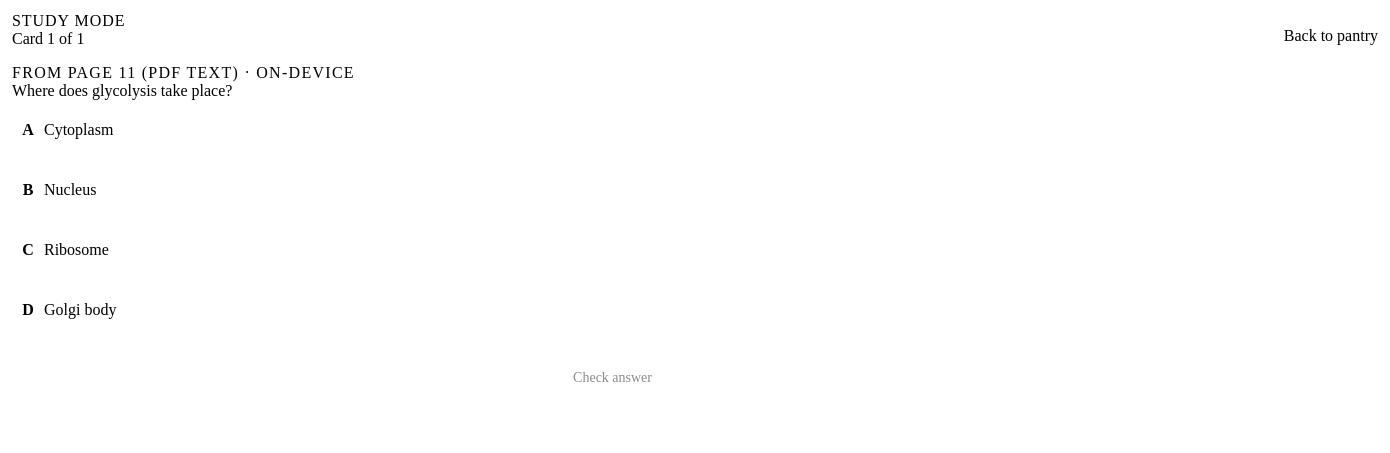
Scenario: StudySession › reveals an optional explanation only after the answer is saved
The width and height of the screenshot is (1390, 453).
Expected: the text "Oxygen is not required for this step." is not shown
Click the button "A Cytoplasm" at (79, 130), box [12,100,652,160]
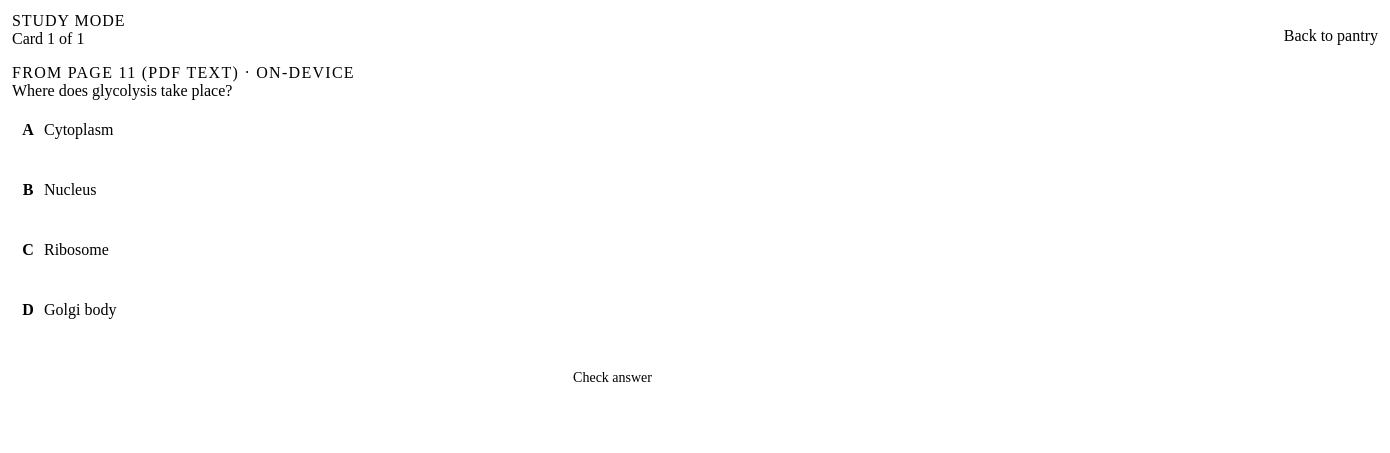
Click the button "Check answer" at (613, 378), box [573,356,652,400]
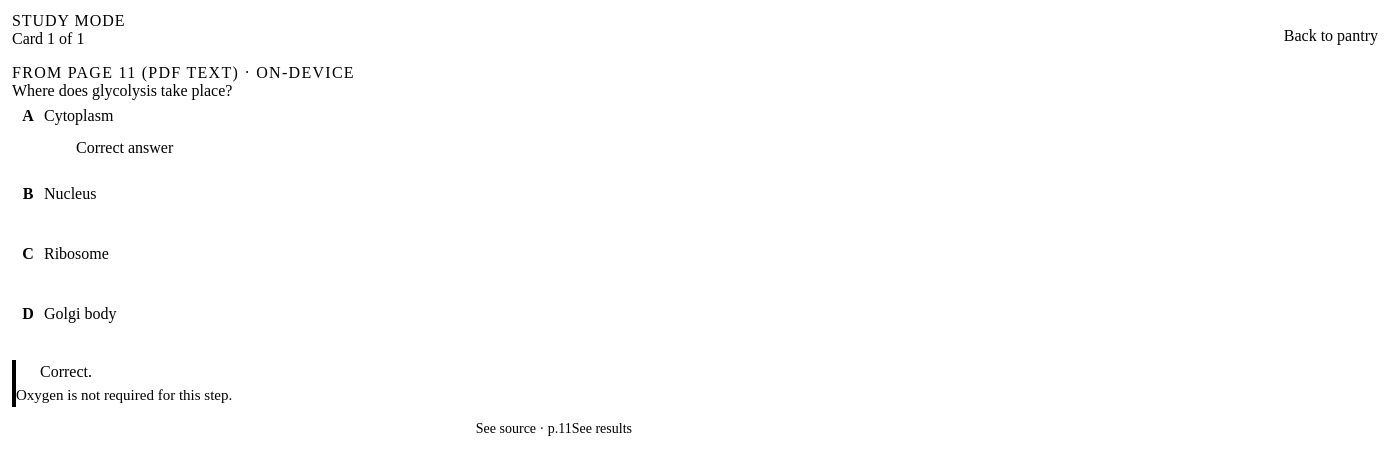
Expected: the text "Oxygen is not required for this step." is shown, [16,387,232,403]
